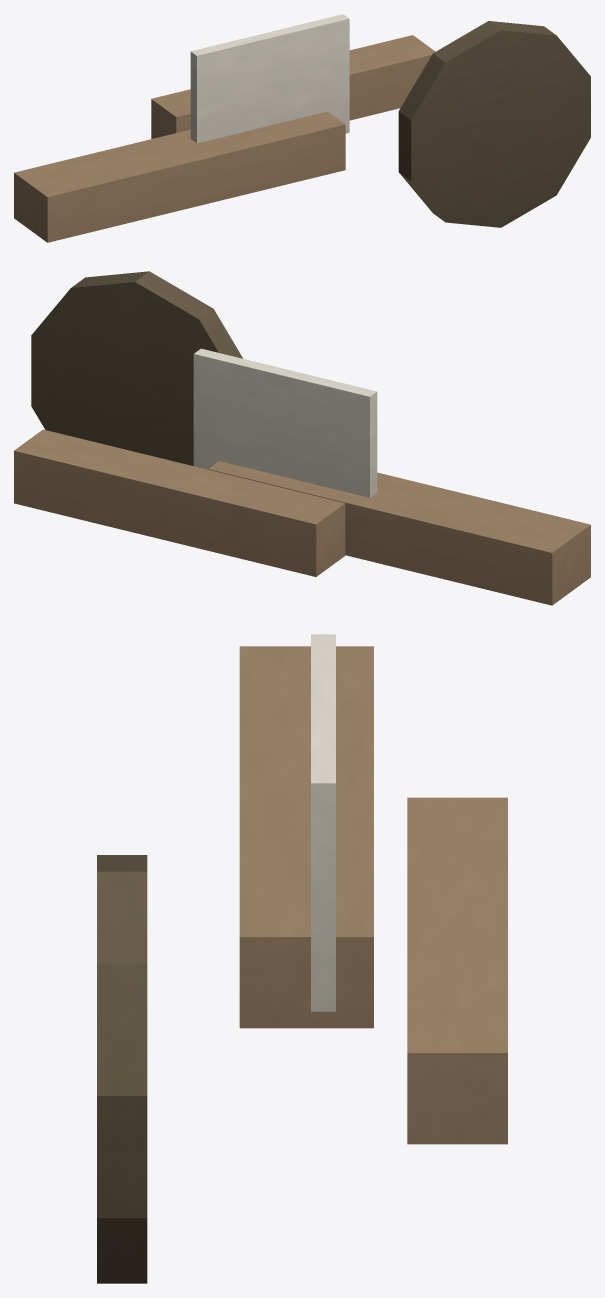
File: wagon_salvage.glb
3 views of the same model, one above another, from view 1: azimuth 30°, elevation 25°; view 2: azimuth 150°, elevation 25°; view 3: azimuth 270°, elevation 25° (orthographic). The views are drawn at different scales.
Parts seen in each view (by area): view 1: wagon_salvage; view 2: wagon_salvage; view 3: wagon_salvage.
Boxes of the visible parts, x1,y1,x2,y2 form: wagon_salvage: (14,14,590,242); wagon_salvage: (14,271,590,605); wagon_salvage: (97,634,507,1283).
Size of the model in its own units: 1.4 by 0.52 by 0.49.
Materials: 1 (1 with a texture image).
